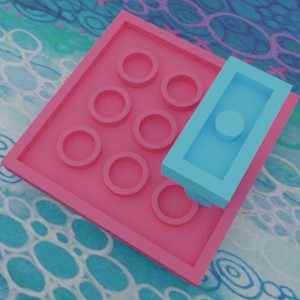lego: (0, 9, 299, 287), (161, 55, 292, 209)
